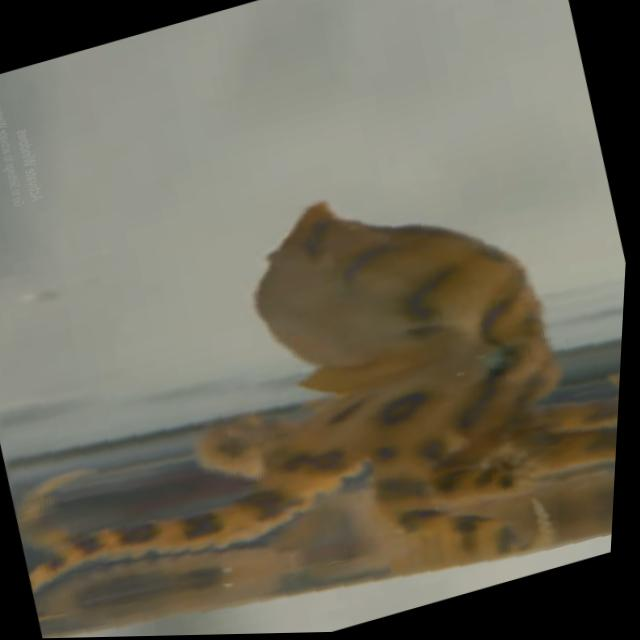blue_ringed_octopus: (0, 117, 635, 640)
